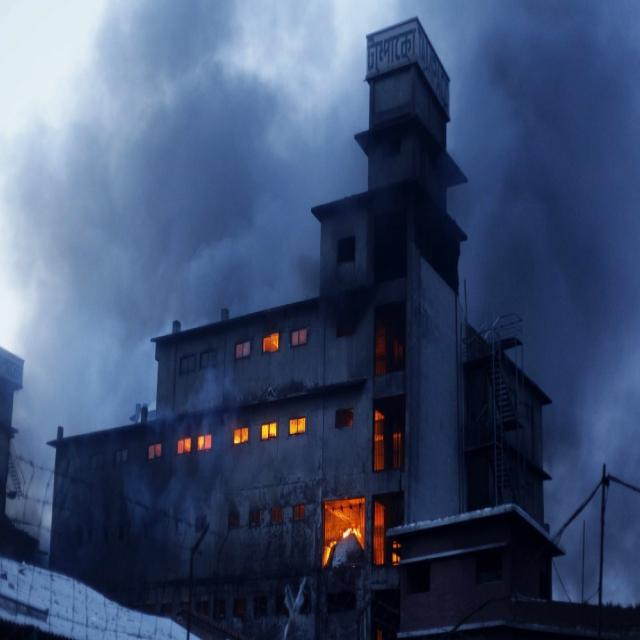Fire: (321, 503, 386, 576), (373, 340, 401, 470), (334, 406, 354, 428), (288, 416, 307, 436), (260, 421, 278, 442), (262, 331, 278, 354), (148, 438, 162, 464), (290, 328, 308, 348), (177, 434, 190, 460), (196, 432, 212, 453), (235, 341, 252, 360), (294, 501, 306, 524), (234, 428, 248, 446), (271, 506, 284, 525)
Smoke: (166, 0, 640, 290), (0, 1, 161, 427), (458, 299, 640, 640)
